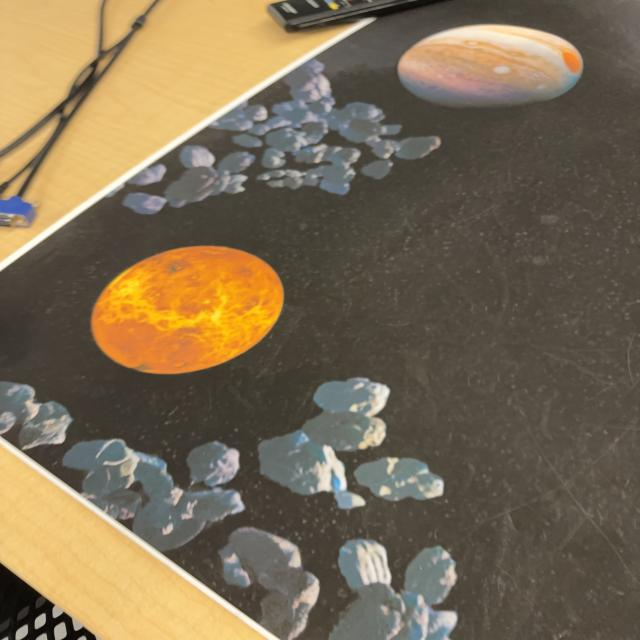Asteroids: (4, 376, 474, 640), (101, 68, 436, 208)
Jupiter: (398, 24, 586, 109)
Venus: (89, 246, 284, 375)
